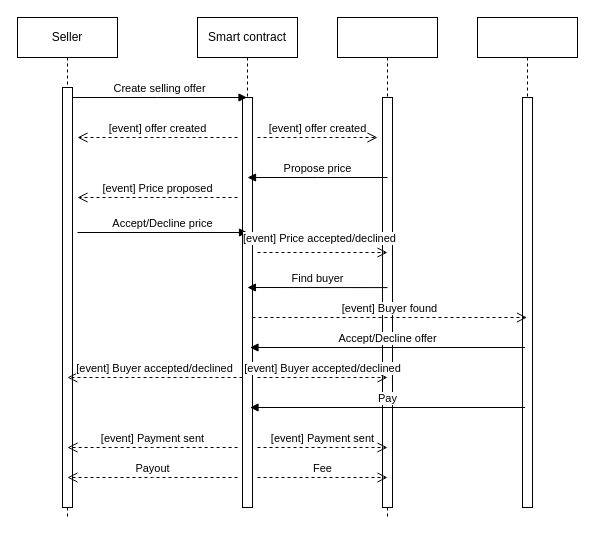
This 595x535 diagram has some shape labels left out. The shapes that lost their labels are listed below. From the top down, each one's box as (x1, y1, x2, y2) in pixels, then its label:
(336, 16, 438, 518): Agent
(476, 16, 578, 508): Buyer
